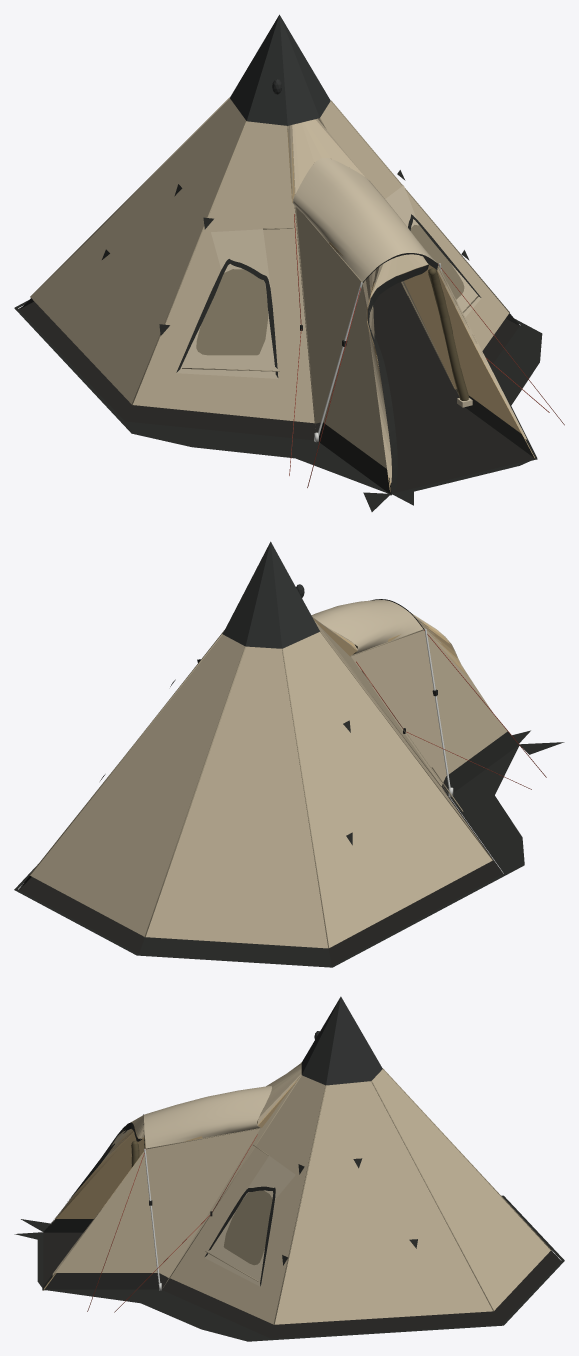
Rendered from robens-kiowa.glb.
3 views of the same model, one above another, from view 1: azimuth 30°, elevation 25°; view 2: azimuth 150°, elevation 25°; view 3: azimuth 270°, elevation 25° (orthographic). The views are drawn at different scales.
Size of the model in its own units: 4.19 by 3.2 by 6.02.
